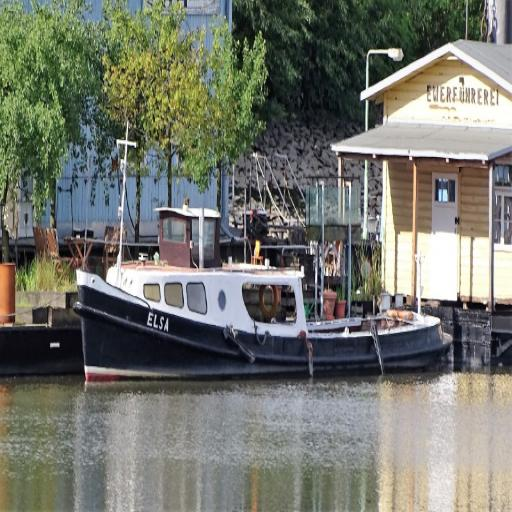tugboat: (73, 120, 456, 407)
